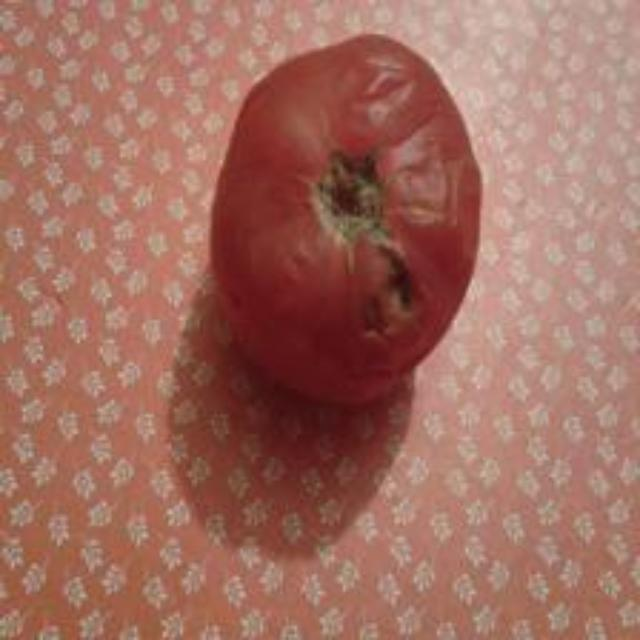defect: (205, 24, 485, 429)
